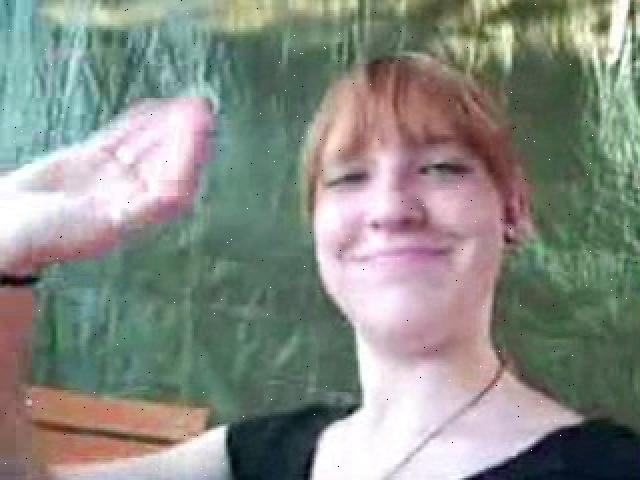T: (0, 58, 590, 480)
